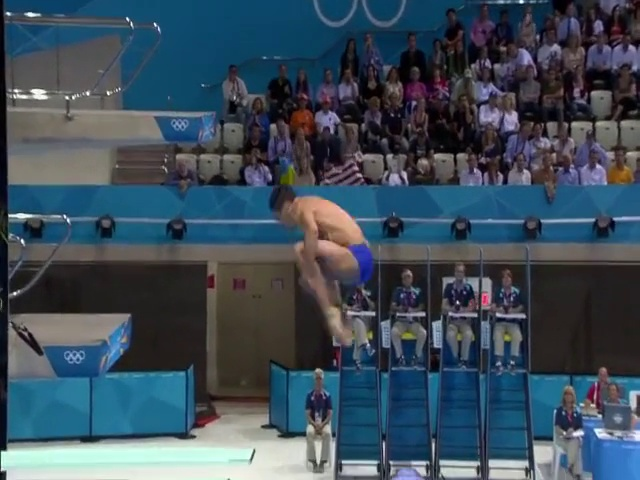diver: (267, 183, 377, 346)
